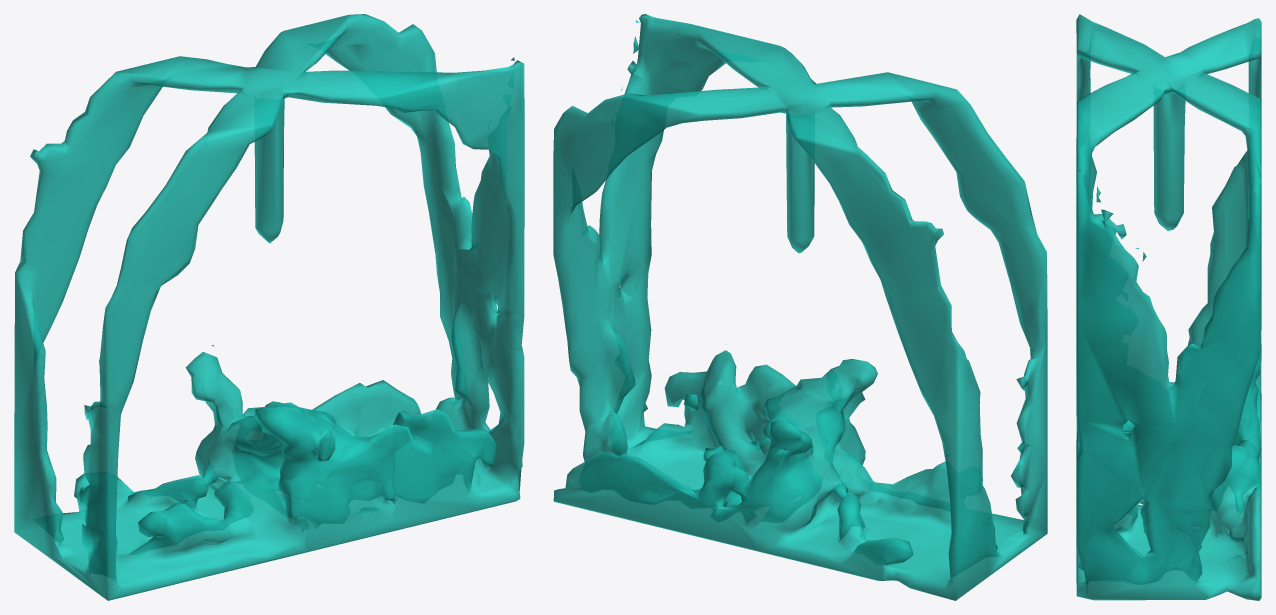
3 renders of one model, left to right at view 1: azimuth 30°, elevation 25°; view 2: azimuth 150°, elevation 25°; view 3: azimuth 270°, elevation 25°, orthographic. The views are drawn at different scales.
Visible parts, largest first — view 1: Liquid_Domain; view 2: Liquid_Domain; view 3: Liquid_Domain.
Part boxes in pixels (left/top/right/bottom): Liquid_Domain: left=14, top=14, right=524, bottom=600; Liquid_Domain: left=553, top=14, right=1047, bottom=600; Liquid_Domain: left=1076, top=14, right=1261, bottom=600.
Bounding box in the file's own units: 1966 × 1965 × 766.
